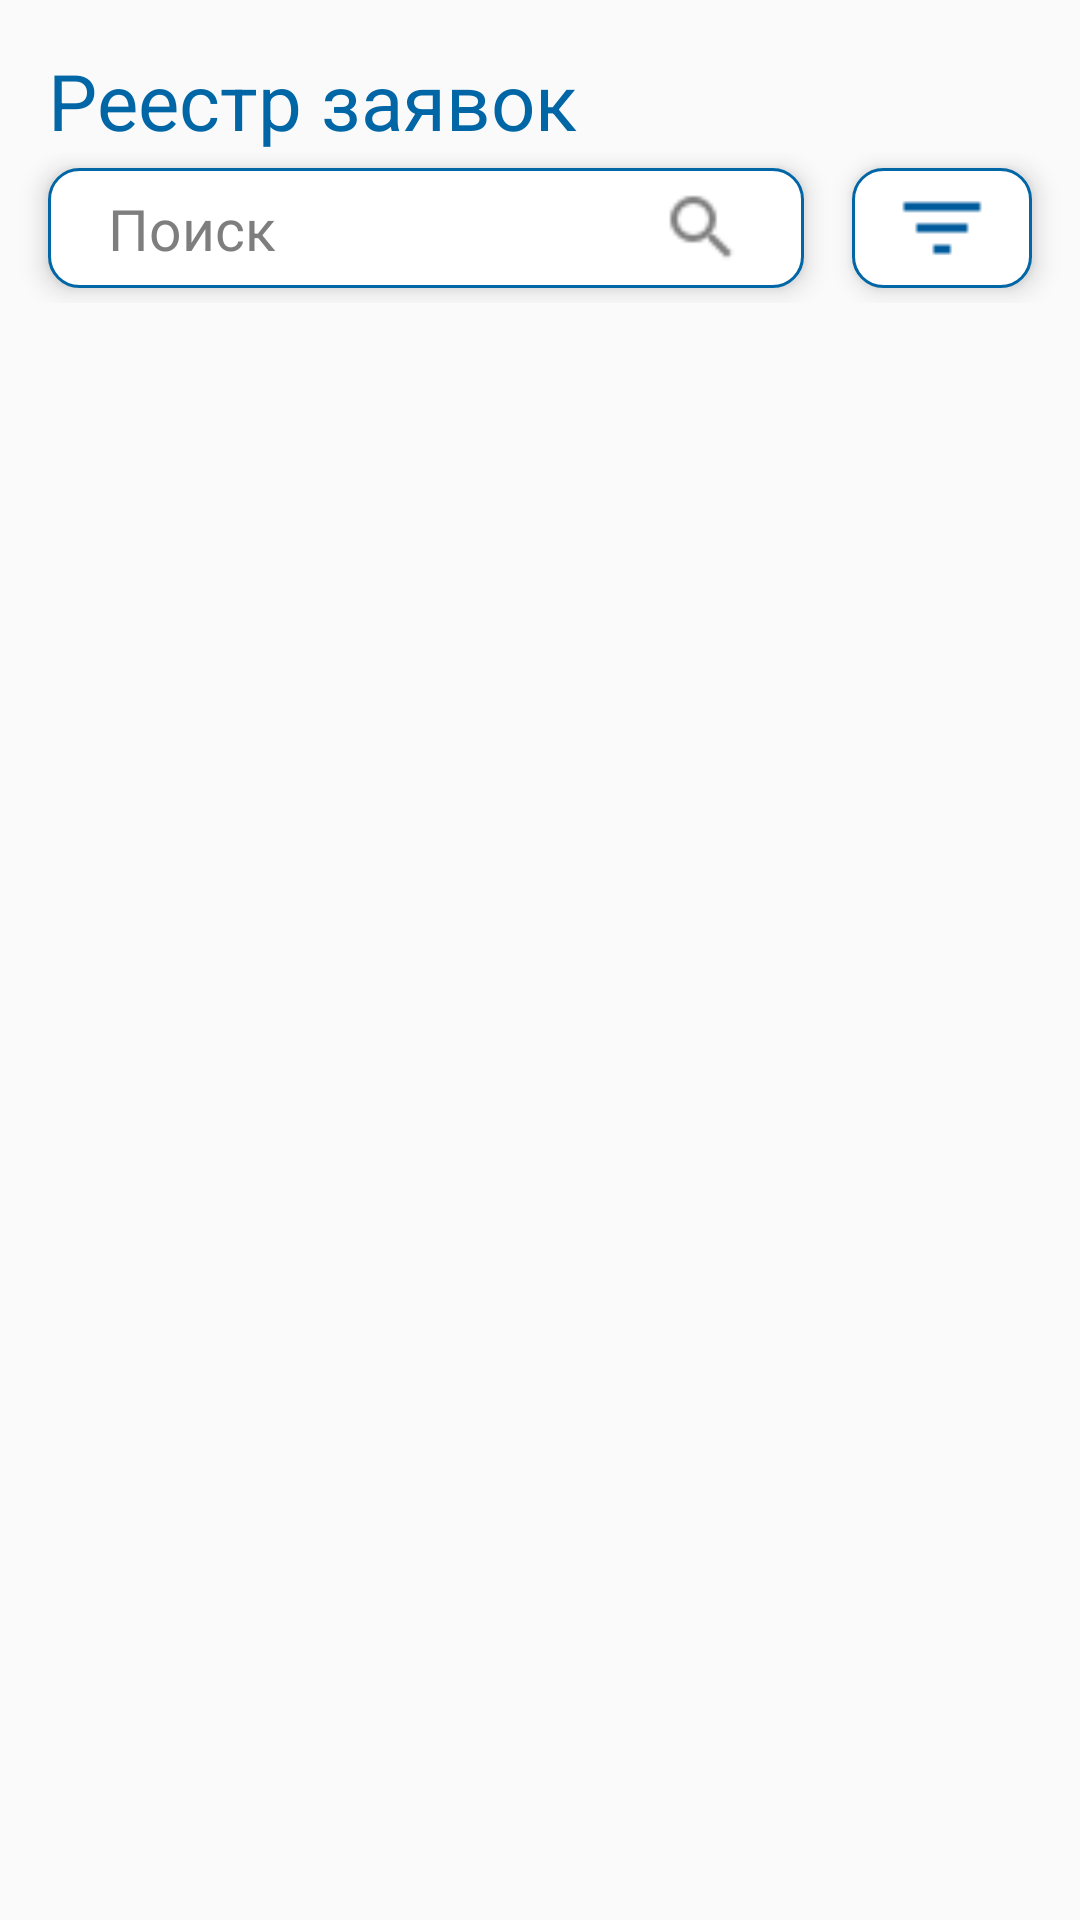

Point at icon controls on the screen. Image size 1080×1920, points as (x=x, y=y).
filter list: (x=942, y=228)
search: (x=700, y=226)
